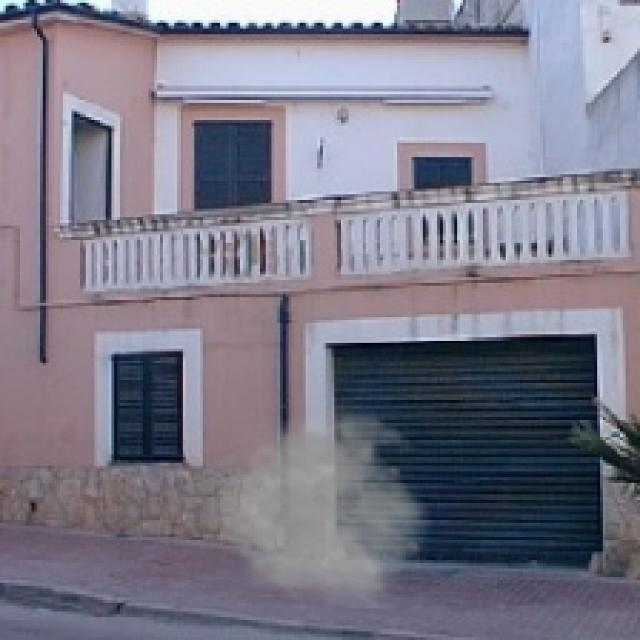Smoke: (200, 397, 437, 609)
